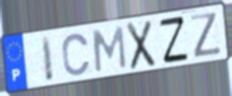C: (61, 32, 92, 78)
I: (40, 34, 56, 84)
M: (91, 24, 128, 74)
X: (125, 18, 157, 72)
Z: (188, 10, 224, 60), (158, 14, 190, 66)
